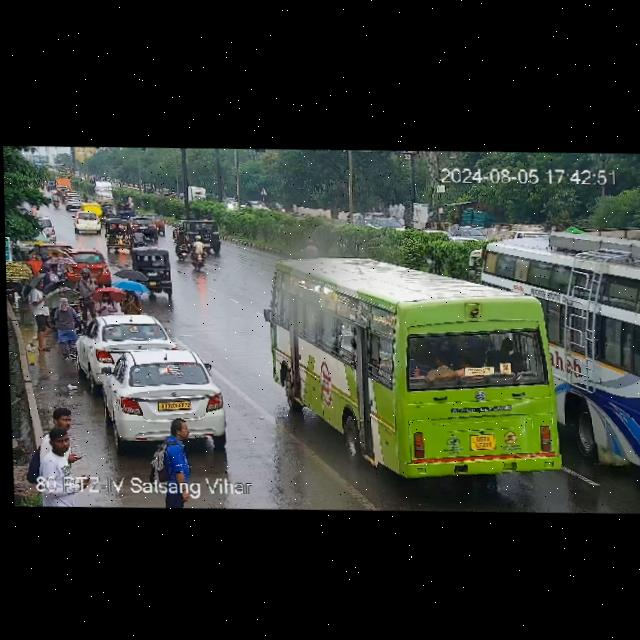bus: (261, 245, 559, 486), (488, 224, 640, 483)
car: (98, 345, 231, 444), (77, 312, 171, 374), (126, 246, 179, 293), (66, 247, 113, 284), (351, 212, 414, 230), (72, 209, 104, 234), (202, 218, 222, 254), (108, 219, 133, 247), (39, 217, 60, 246), (130, 215, 154, 231), (114, 198, 135, 216), (149, 212, 165, 235), (170, 219, 192, 233), (65, 194, 82, 209), (82, 202, 101, 213), (46, 180, 57, 192), (142, 184, 153, 193), (161, 188, 169, 196)
motorcycle: (189, 234, 205, 269), (175, 230, 189, 264), (133, 227, 146, 249), (52, 192, 61, 208), (106, 209, 115, 219), (101, 204, 108, 216), (179, 189, 184, 200), (171, 187, 175, 198), (83, 193, 88, 201)
person: (38, 403, 81, 463), (156, 415, 195, 473), (30, 280, 52, 350), (55, 295, 78, 358), (30, 252, 66, 283), (76, 267, 96, 322), (119, 280, 147, 315), (97, 288, 117, 314)
truck: (490, 219, 541, 240), (93, 181, 114, 205), (187, 185, 208, 203), (302, 240, 318, 255), (54, 174, 71, 186), (277, 204, 286, 214)
